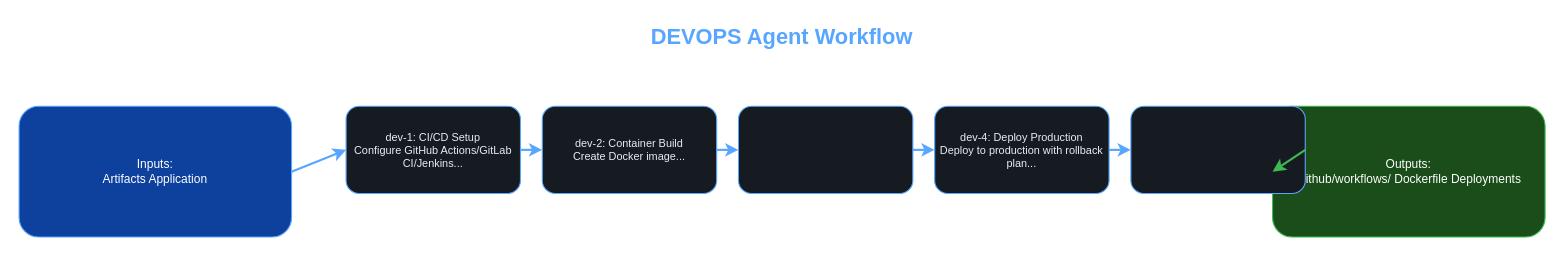
Image size: 1564x256. Some labels were removed from this diagram. Here are the shapes that lost their labels. From the top down, the centre of each, then its label:
(x=825, y=149): dev-3: Deploy Staging Deploy to staging environment...
(x=1217, y=149): dev-5: Monitor Setup Configure monitoring and alerts...
